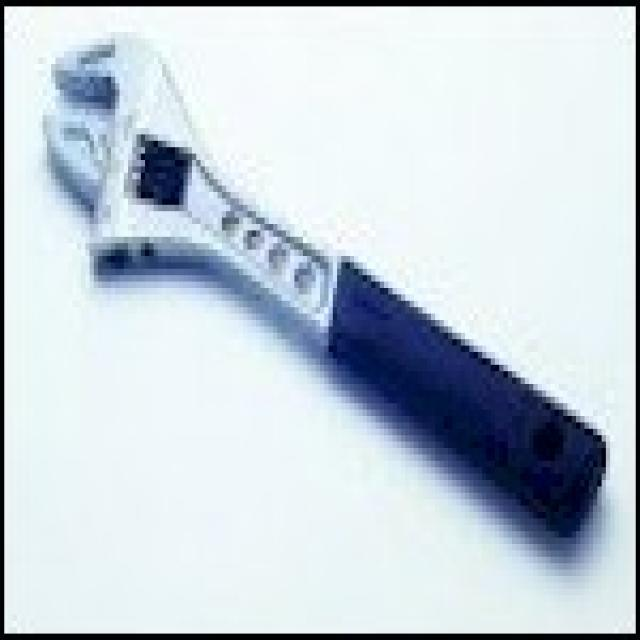wrench: (34, 28, 618, 548)
